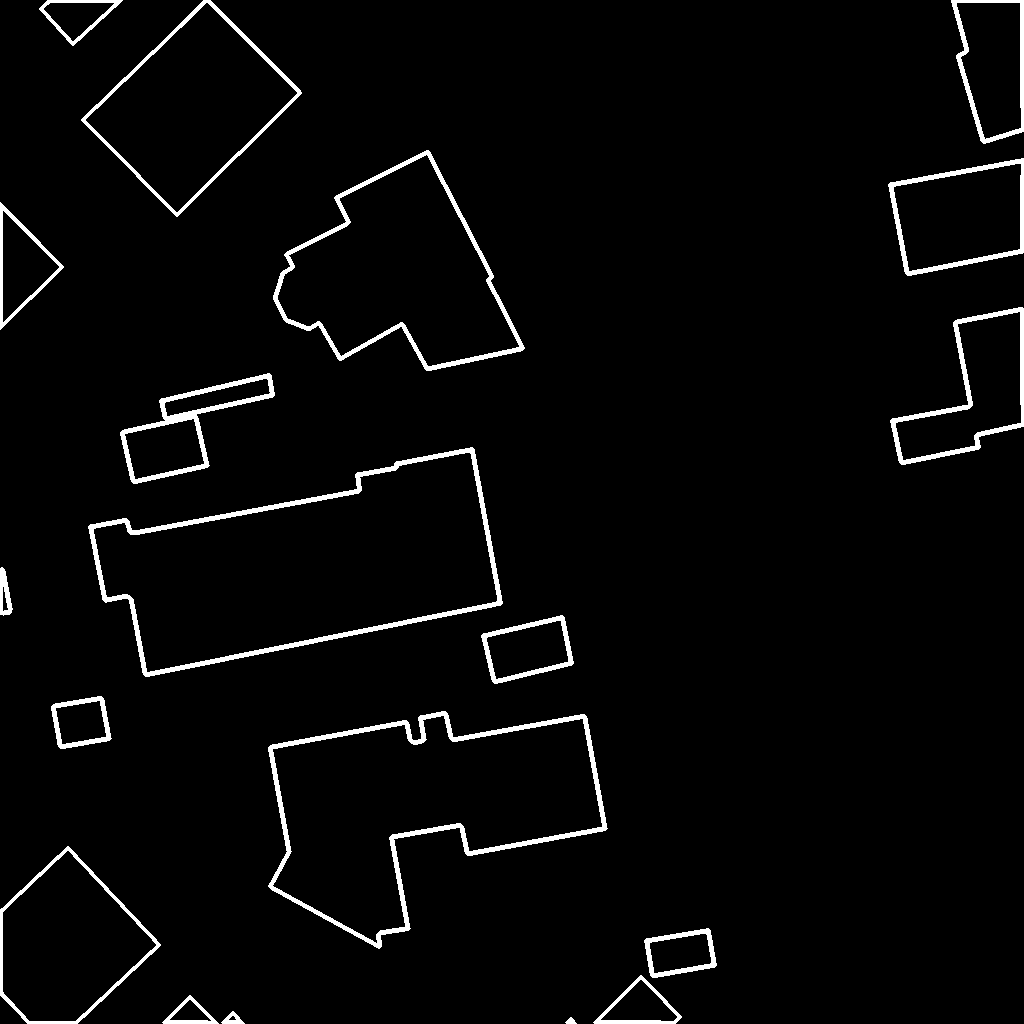building: (90, 449, 502, 676), (270, 713, 606, 948), (275, 152, 524, 370), (83, 0, 301, 216), (0, 848, 160, 1024), (890, 160, 1024, 275), (953, 0, 1024, 143), (955, 309, 1024, 436), (0, 204, 63, 329), (483, 617, 573, 683), (122, 416, 208, 483), (567, 977, 681, 1024), (892, 406, 980, 464), (161, 375, 274, 420), (41, 0, 122, 45), (646, 930, 716, 977), (53, 698, 110, 748), (164, 997, 244, 1024), (0, 569, 11, 614), (0, 1021, 3, 1024)
